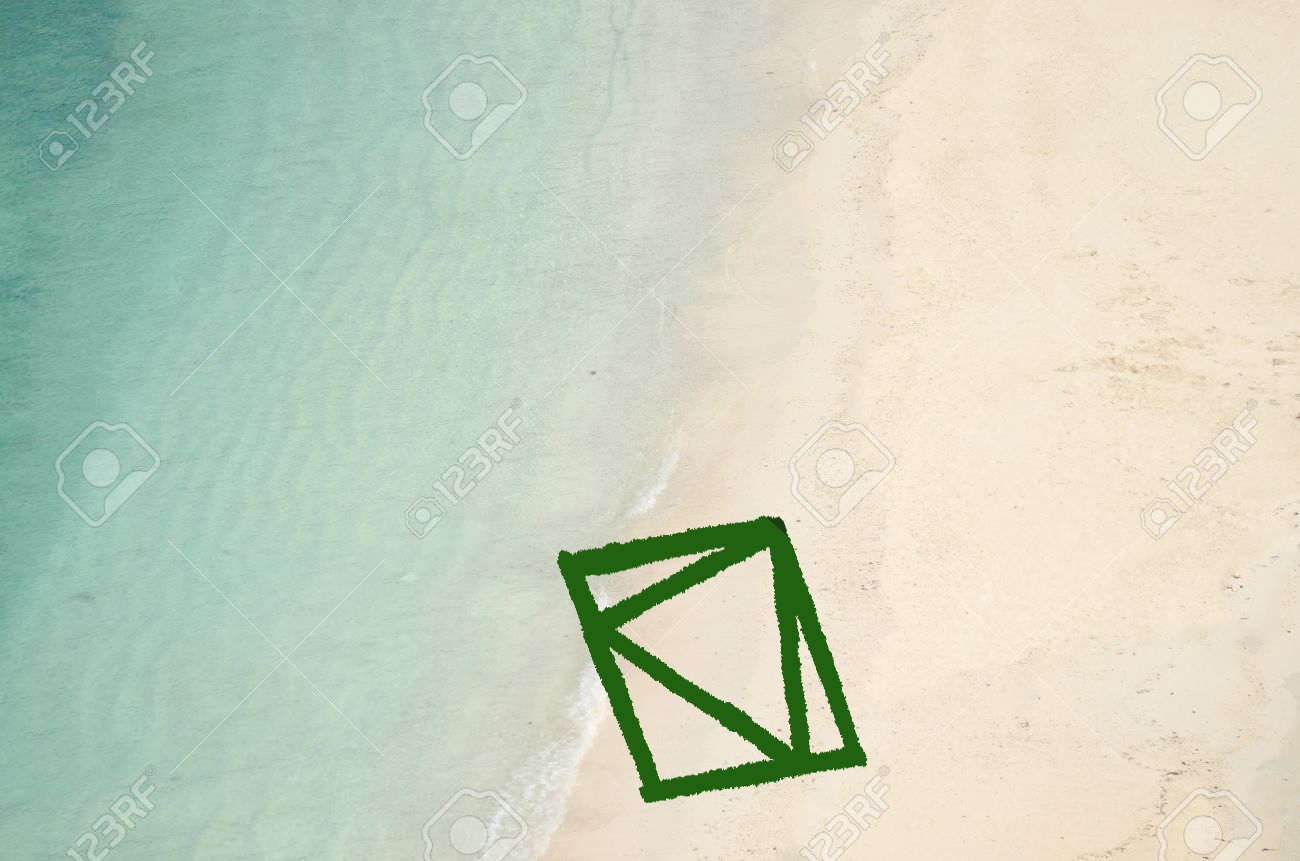marker: (541, 512, 888, 820)
